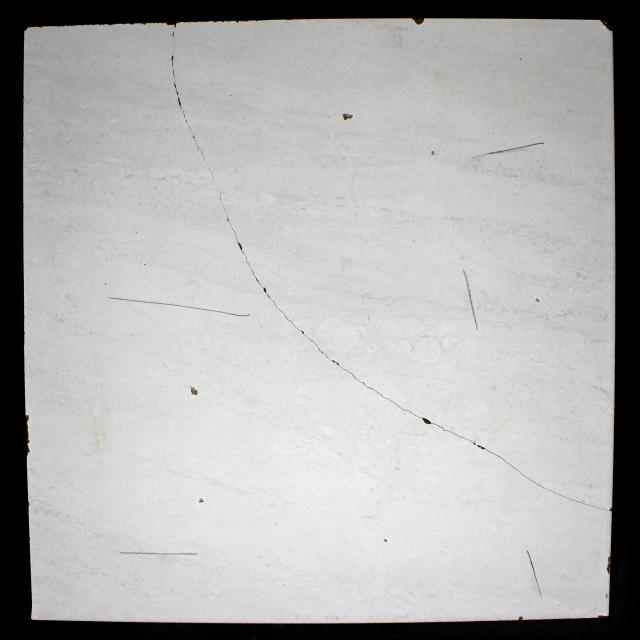edge-chipping: (26, 414, 30, 456), (599, 20, 613, 32), (606, 555, 612, 575), (411, 18, 425, 25), (518, 616, 524, 620), (597, 615, 605, 618)
hole: (343, 113, 353, 120), (190, 387, 198, 395), (422, 418, 432, 424), (199, 498, 204, 503), (535, 298, 540, 302), (431, 151, 435, 156), (264, 288, 266, 292), (384, 540, 387, 542)
line: (332, 360, 422, 418), (506, 462, 608, 510), (265, 293, 331, 360), (224, 208, 264, 288), (106, 296, 250, 317), (433, 424, 506, 462), (194, 139, 224, 206), (170, 56, 194, 138), (472, 142, 545, 158), (463, 270, 479, 332), (526, 550, 542, 595), (118, 551, 196, 555), (170, 24, 178, 55)
